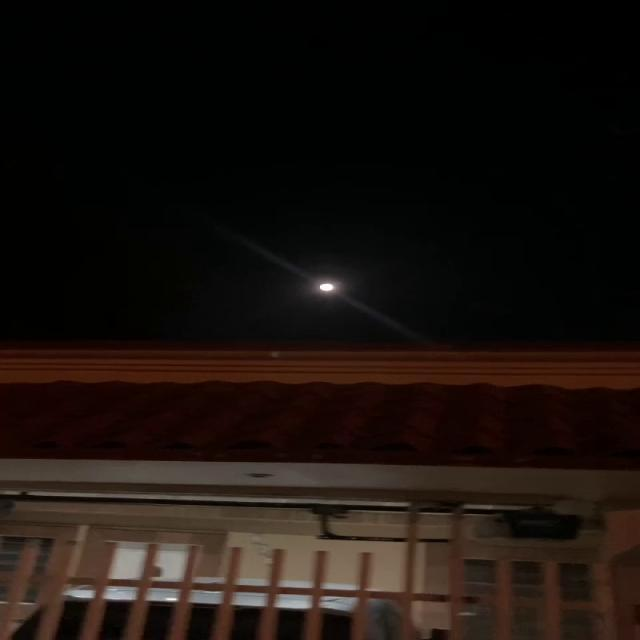moon: (310, 278, 345, 300)
